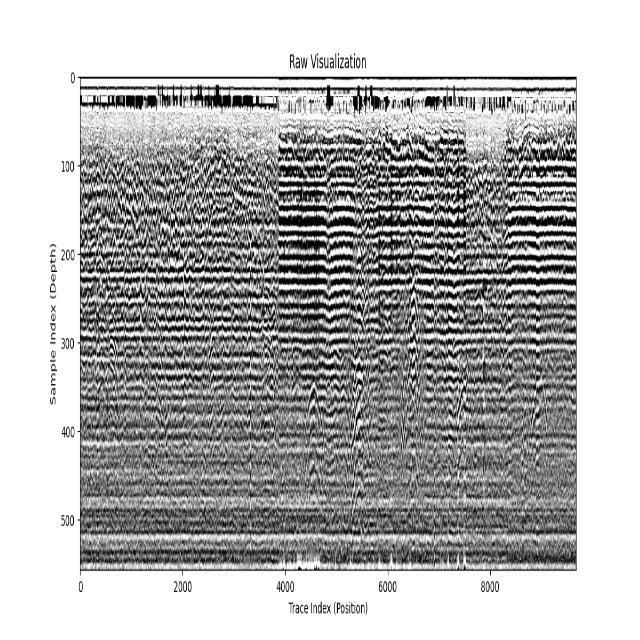anomaly: (348, 258, 364, 534), (302, 382, 326, 526), (304, 377, 320, 478), (310, 401, 321, 455)
